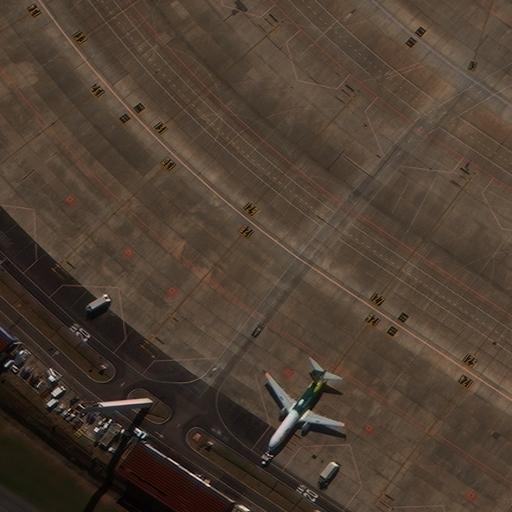Medium Civil Transport: (265, 370, 344, 450)
